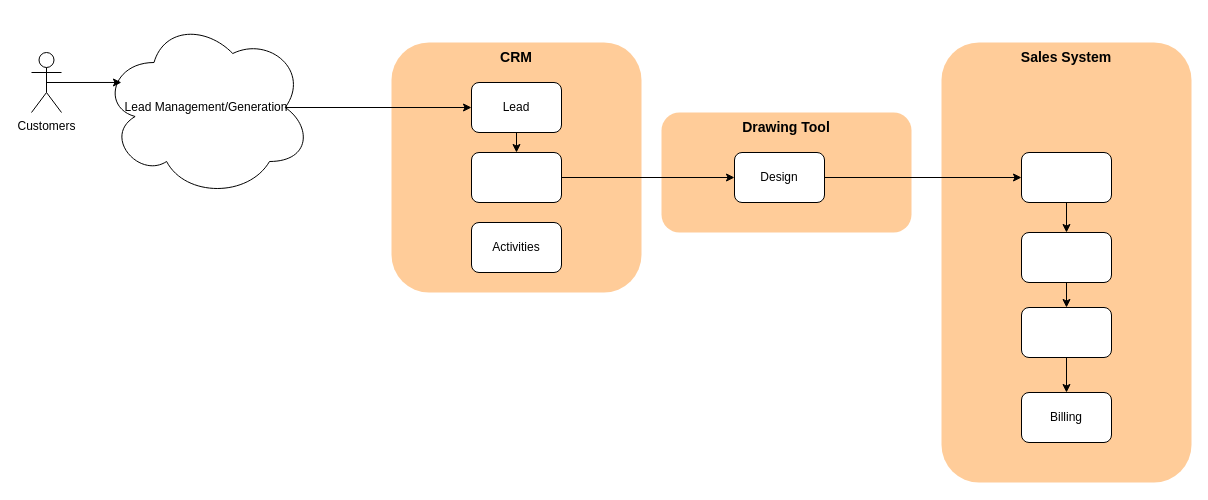
The diagram is 1208 pixels wide and 500 high, and some of its shapes have lost their labels. Each missing label, with the centre of its shape:
"Delivery" belongs at point (1066, 332).
"Opportunity" belongs at point (516, 177).
"Order" belongs at point (1066, 257).
"Quote" belongs at point (1066, 177).
